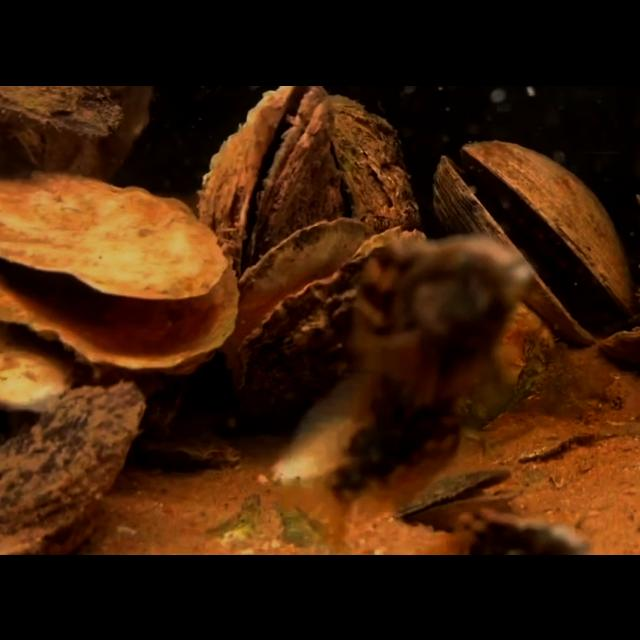Oyster-Closed: (0, 382, 144, 554), (425, 300, 557, 436), (324, 92, 418, 234), (0, 320, 76, 416), (0, 85, 124, 137)
Oyster-Open: (0, 170, 240, 372), (432, 136, 634, 344), (220, 217, 432, 396), (196, 85, 334, 283), (391, 462, 524, 530), (126, 418, 240, 478)
